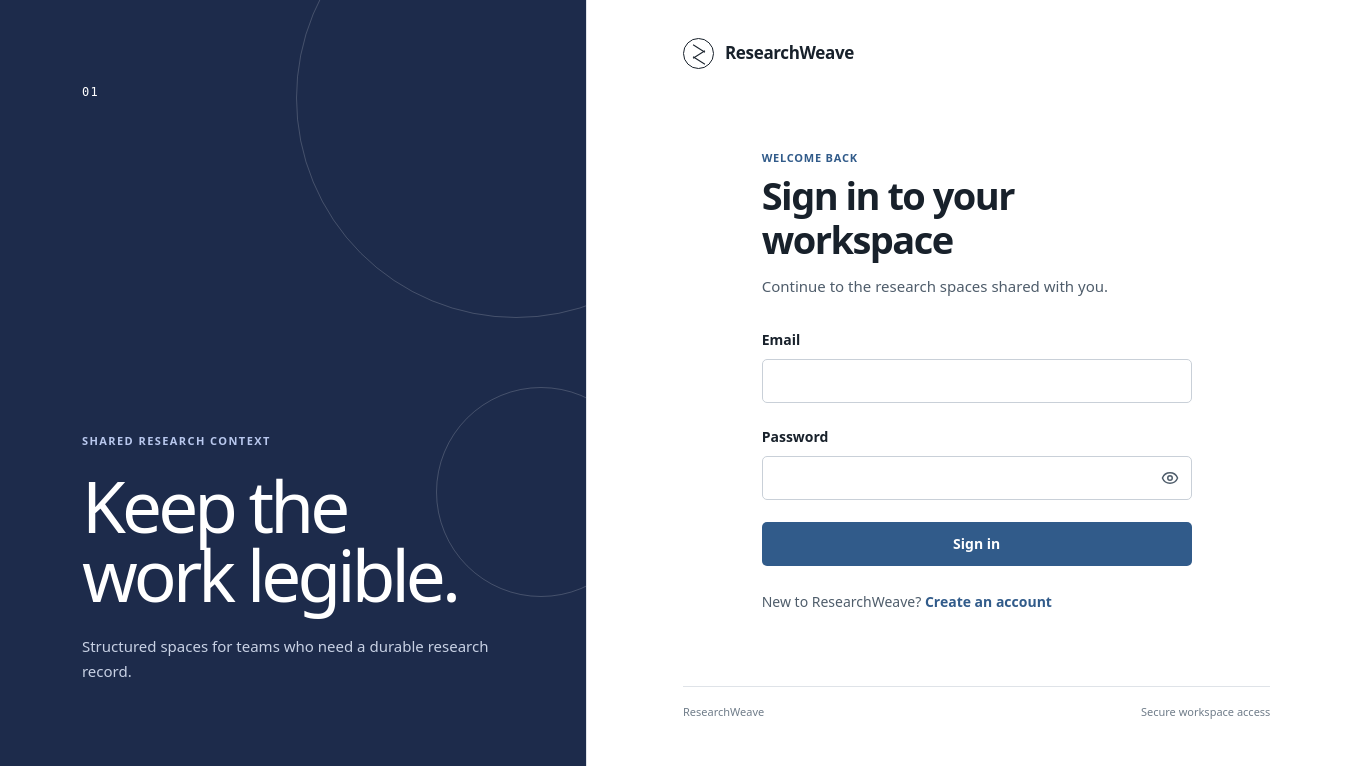
it: frontend actor ownership › does not publish a principal or navigate when login times out
In the field labelled "Email": {"x": 977, "y": 381} [762,359,1192,403], type "alice@example.com"
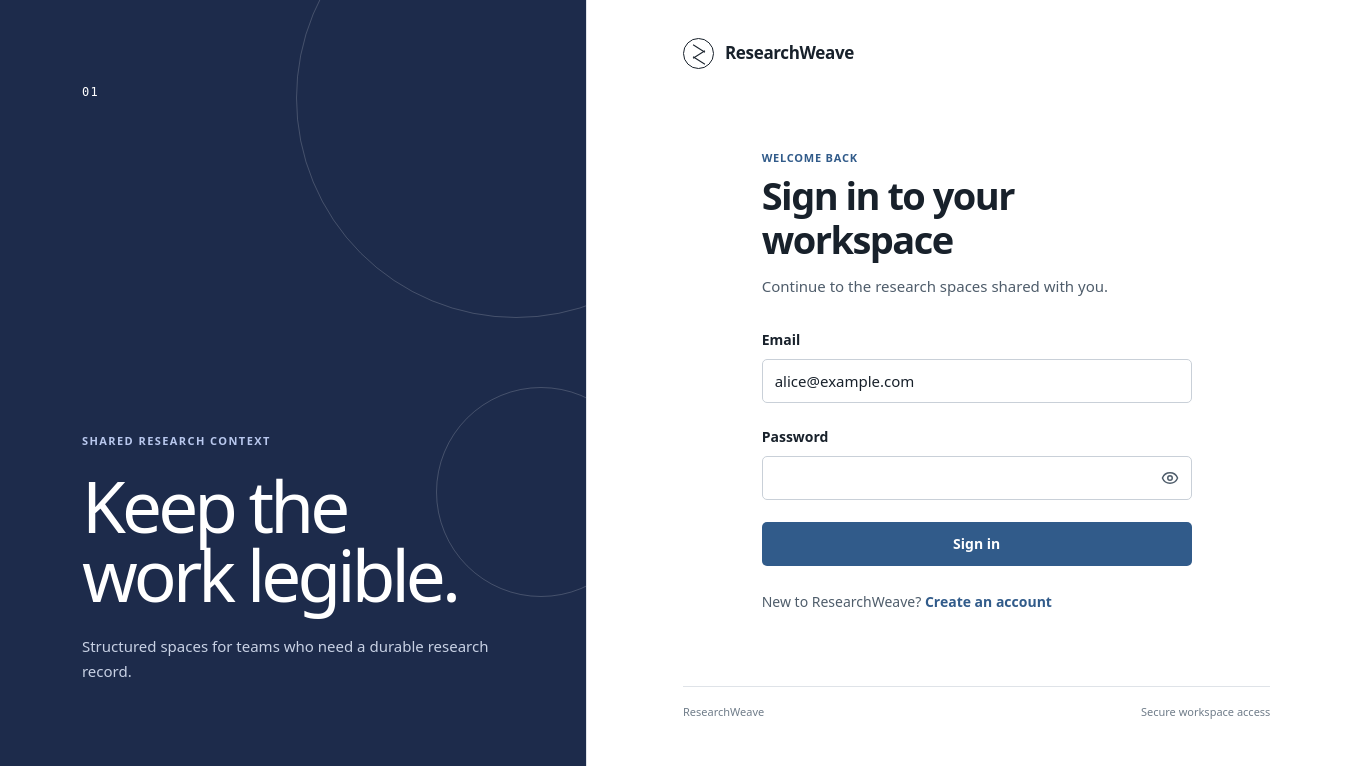
In the password field labelled "Password": {"x": 977, "y": 478} [762,456,1192,500], type "correct horse battery staple"
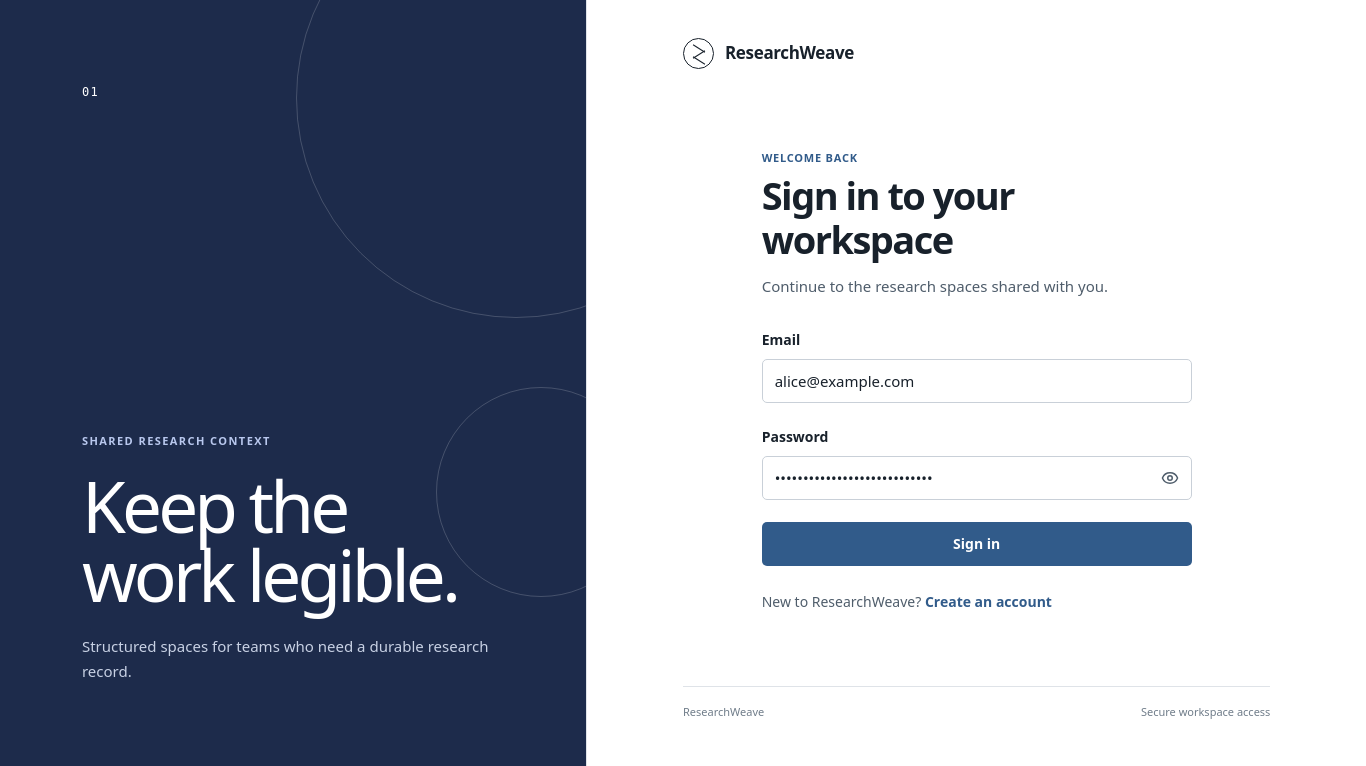
Click the button "Sign in": {"x": 977, "y": 544} [762,522,1192,566]
(page scrolled)
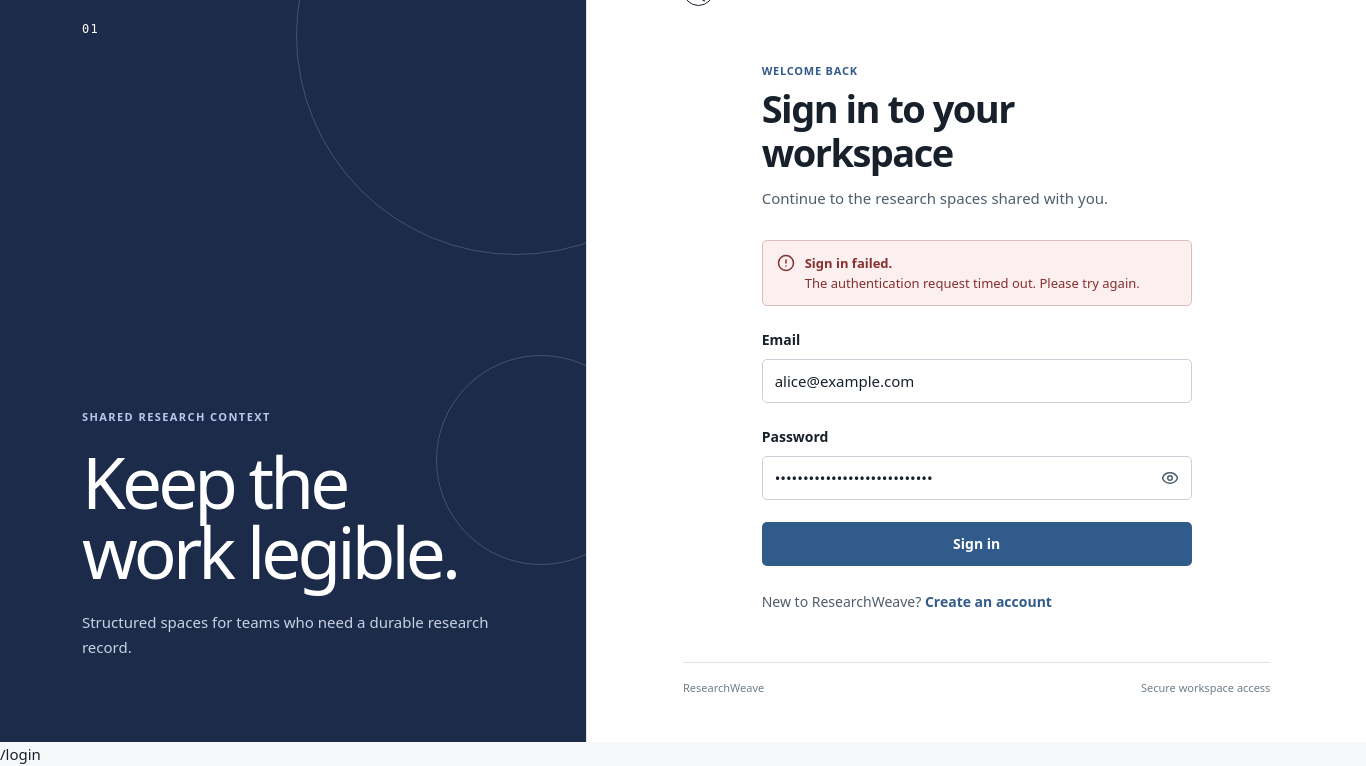
Expected: the text with test id "location" reads "/login", [0,744,41,764]
Result: the text "The authentication request timed out. Please try again." is shown at [805,273,1140,293]
